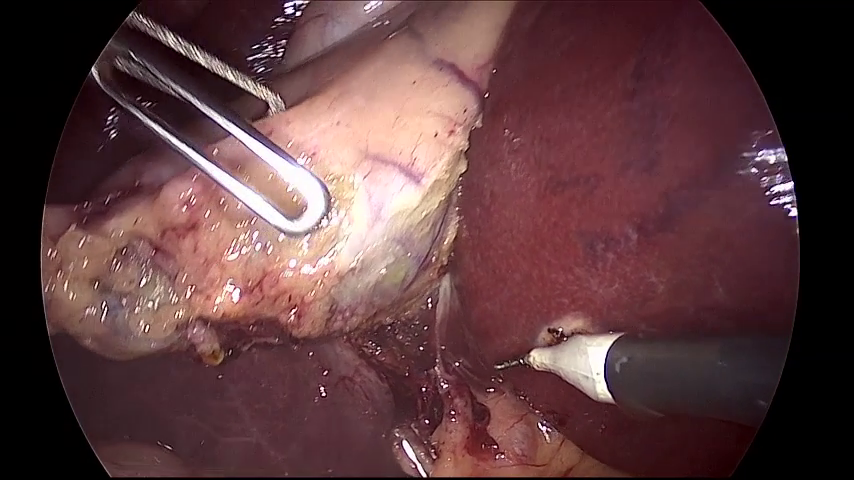grasper: (87, 1, 331, 232)
lhook: (497, 327, 790, 431)
